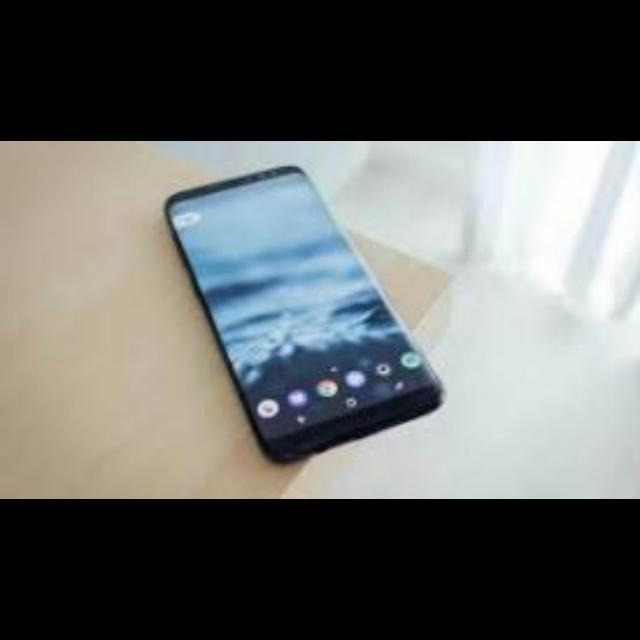PhoneUse: (166, 163, 444, 463)
